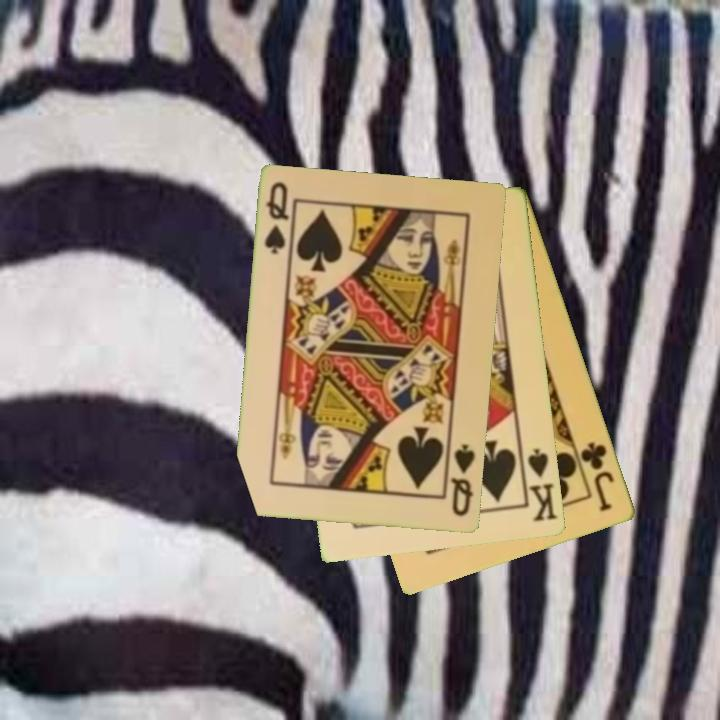Jc: (577, 438, 618, 515)
Ks: (518, 445, 560, 525)
Qs: (448, 441, 479, 520), (261, 179, 292, 258)
